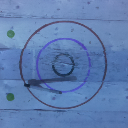Axe Tip: (29, 83, 41, 86)
